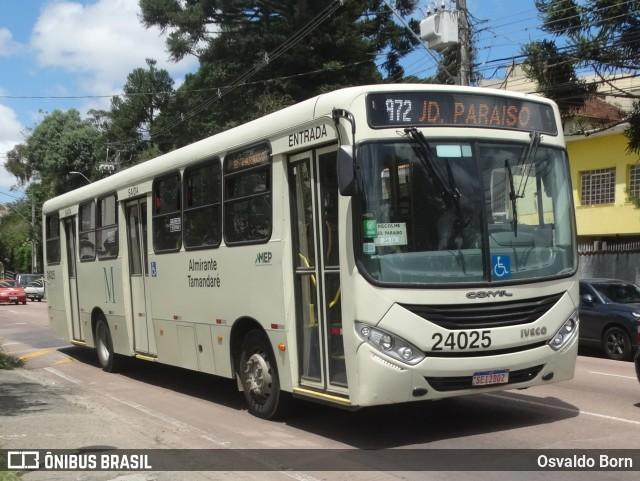JD PARAISO: (416, 98, 535, 127)
